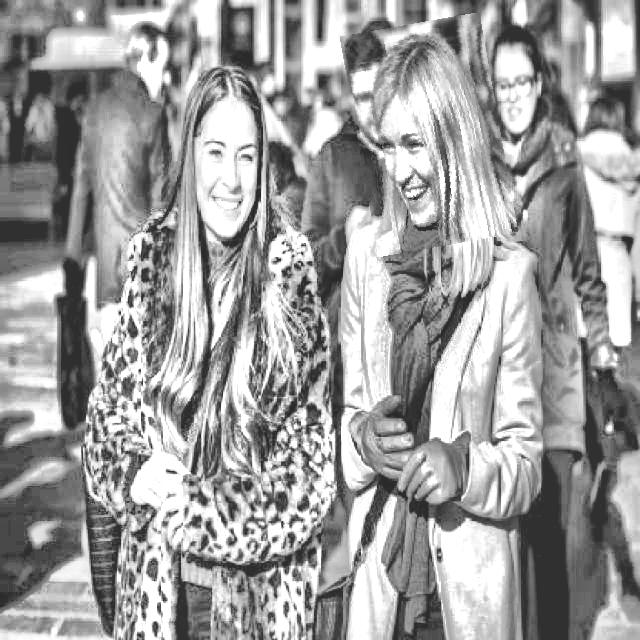happy: (349, 18, 509, 252), (184, 62, 278, 253)
